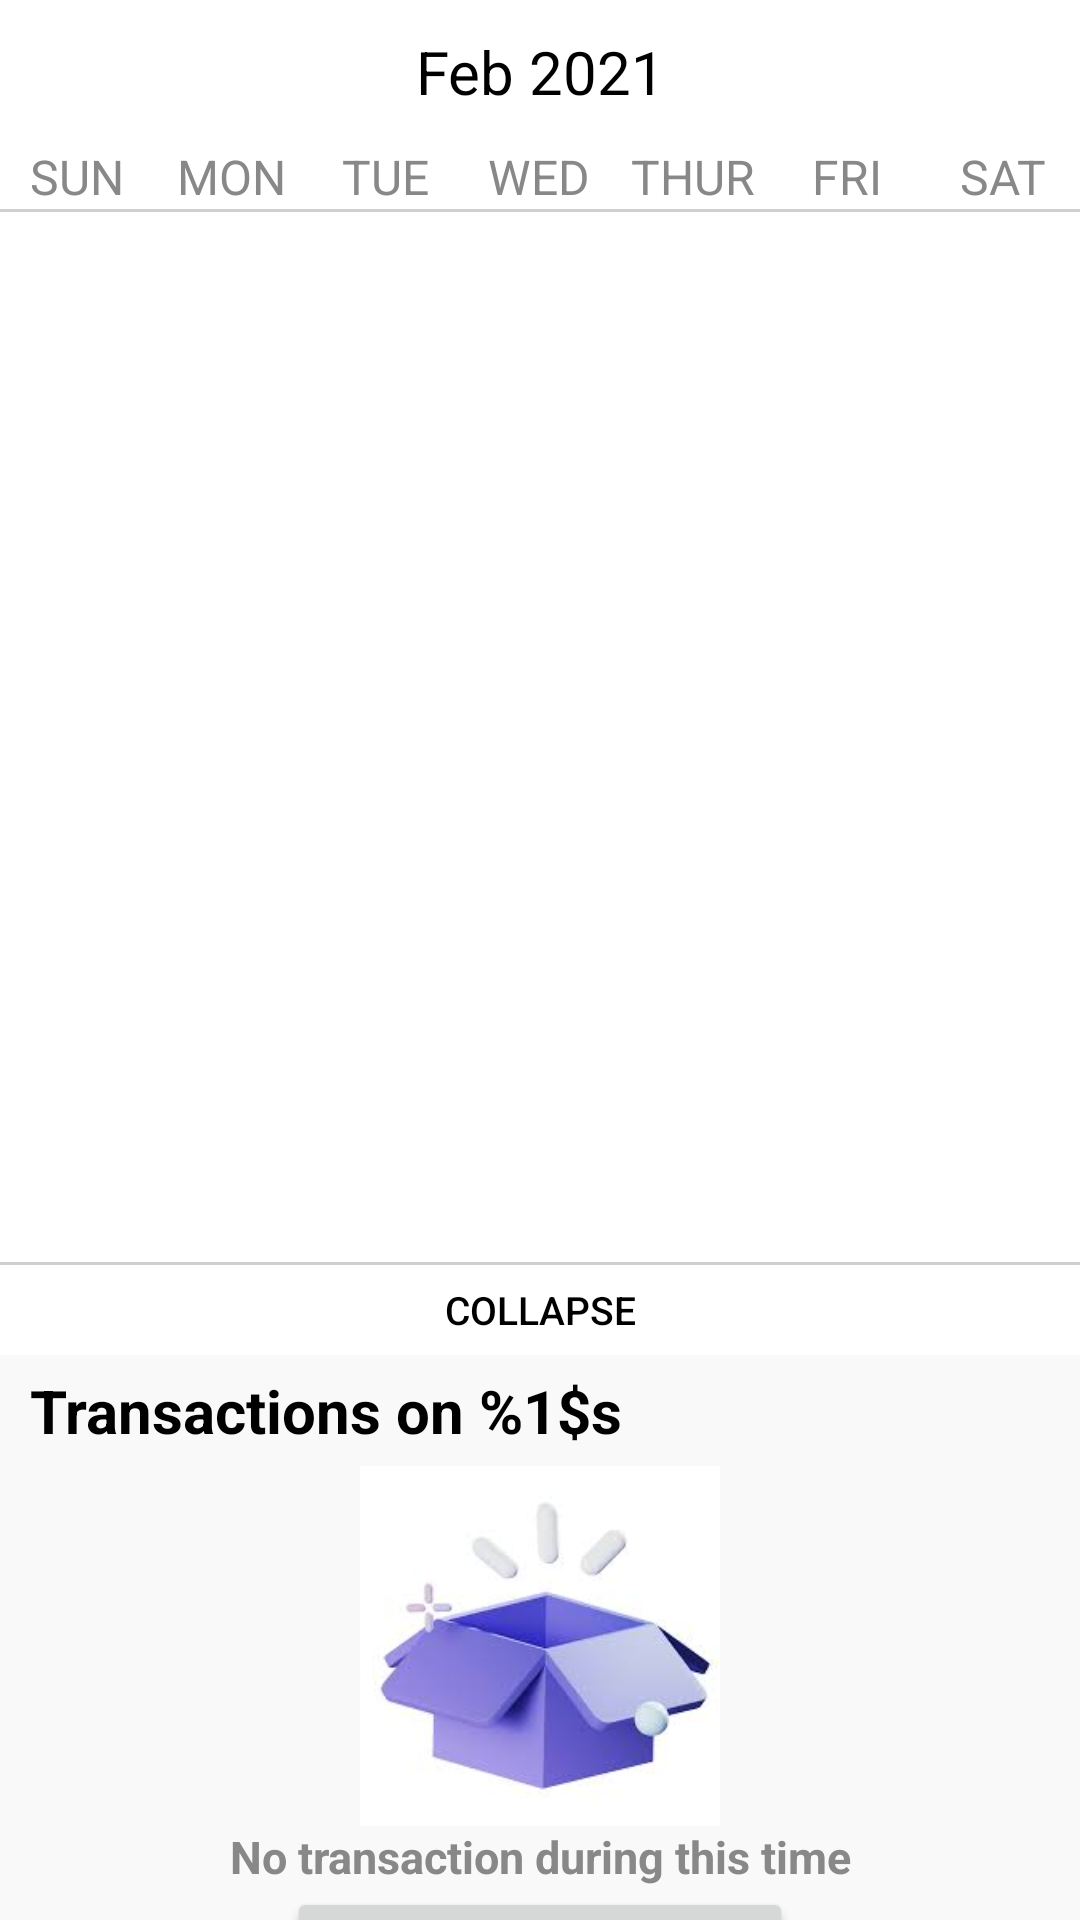

Icon bounding boxes for this 1080*1920 phone screenshot, format (x1, y1, x2, y2):
empty: (380, 1504, 718, 1790)
